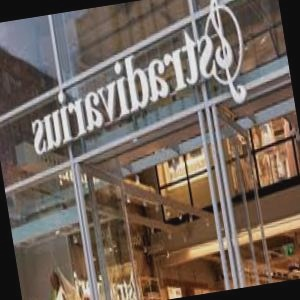stradivarius: (59, 106, 300, 109)
